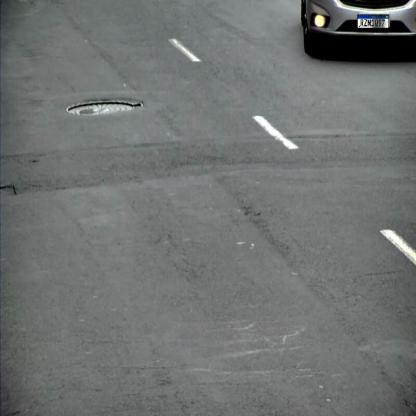PlacaM: (357, 14, 389, 28)
